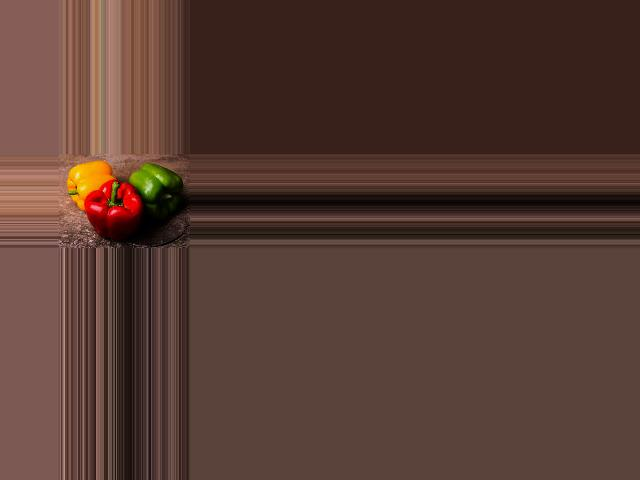bell_pepper: (67, 158, 112, 211)
